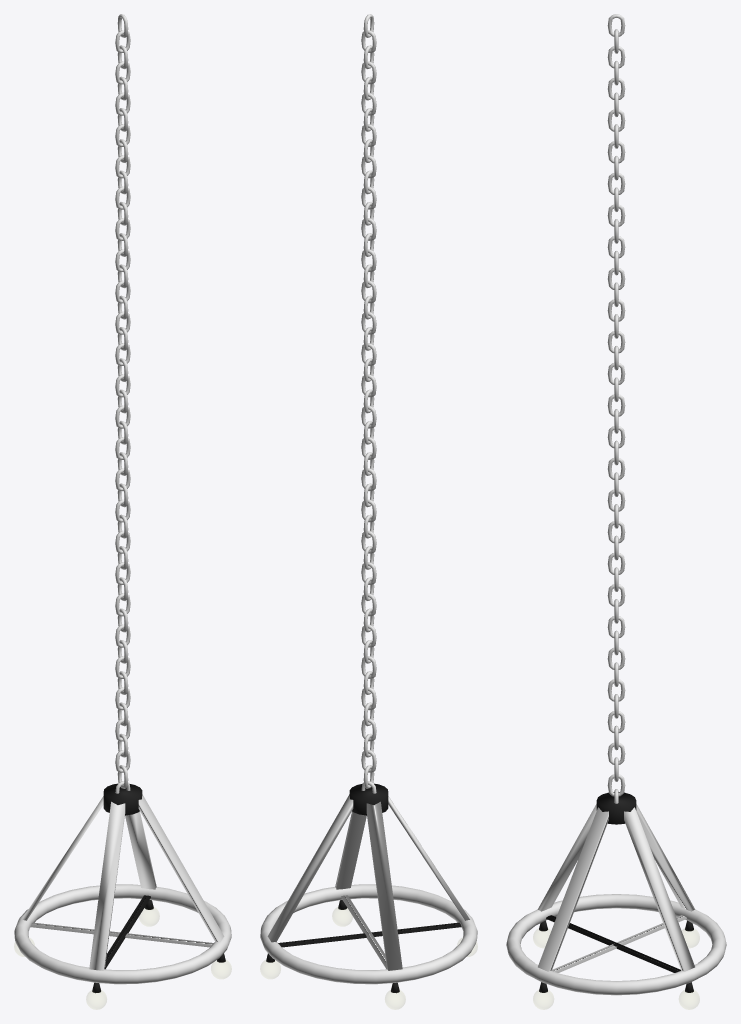
Rendered from chandelier.glb.
The picture shows the model from 3 angles, left to right: view 1: azimuth 30°, elevation 25°; view 2: azimuth 150°, elevation 25°; view 3: azimuth 270°, elevation 25°; orthographic projection.
Parts seen in each view (by area): view 1: Torus.002, Cube, Torus, Icosphere, Plane, Circle, Plane.001; view 2: Torus.002, Cube, Torus, Icosphere, Plane.001, Circle, Plane; view 3: Torus.002, Cube, Torus, Icosphere, Circle, Plane.001, Plane.
Boxes of the visible parts, x1,y1,x2,y2 form: Torus.002: [115, 14, 130, 793]; Cube: [22, 794, 224, 970]; Torus: [14, 884, 231, 984]; Icosphere: [14, 907, 231, 1009]; Plane: [30, 922, 213, 947]; Circle: [103, 783, 142, 815]; Plane.001: [105, 895, 150, 969]; Torus.002: [361, 14, 376, 793]; Cube: [267, 794, 469, 970]; Torus: [260, 884, 477, 984]; Icosphere: [260, 907, 477, 1009]; Plane.001: [278, 922, 461, 947]; Circle: [349, 783, 388, 815]; Plane: [341, 895, 386, 969]; Torus.002: [607, 14, 625, 803]; Cube: [537, 804, 695, 971]; Torus: [506, 894, 726, 995]; Icosphere: [533, 929, 699, 1009]; Circle: [596, 792, 636, 824]; Plane.001: [546, 915, 680, 972]; Plane: [552, 915, 686, 972].
Size of the model in its own units: 2.14 by 10.32 by 2.14.
